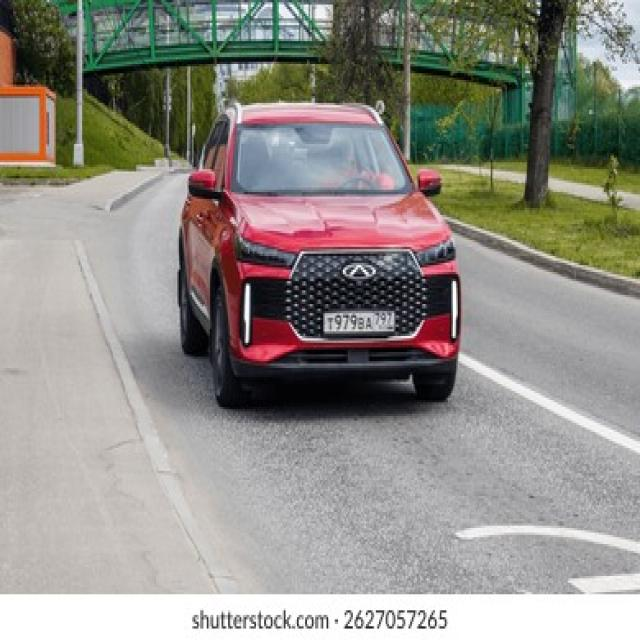mazda: (343, 259, 376, 283)
